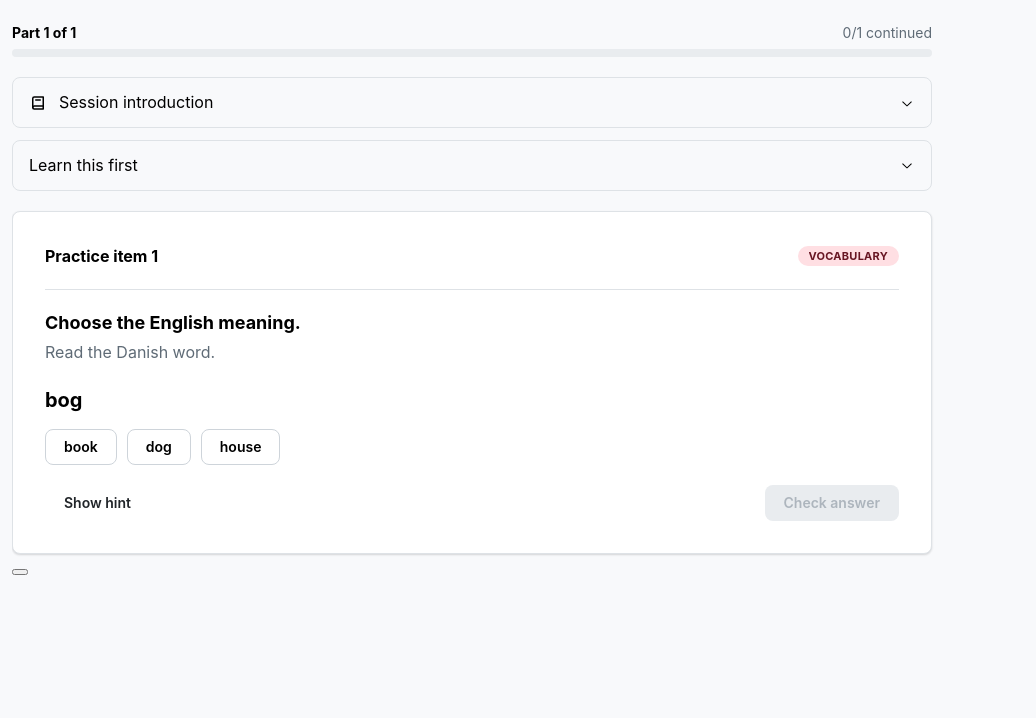
it: restores hint focus after manually retrying a committed support response loss
Click the button "Show hint": (98, 503) [45, 485, 150, 521]
(page scrolled)
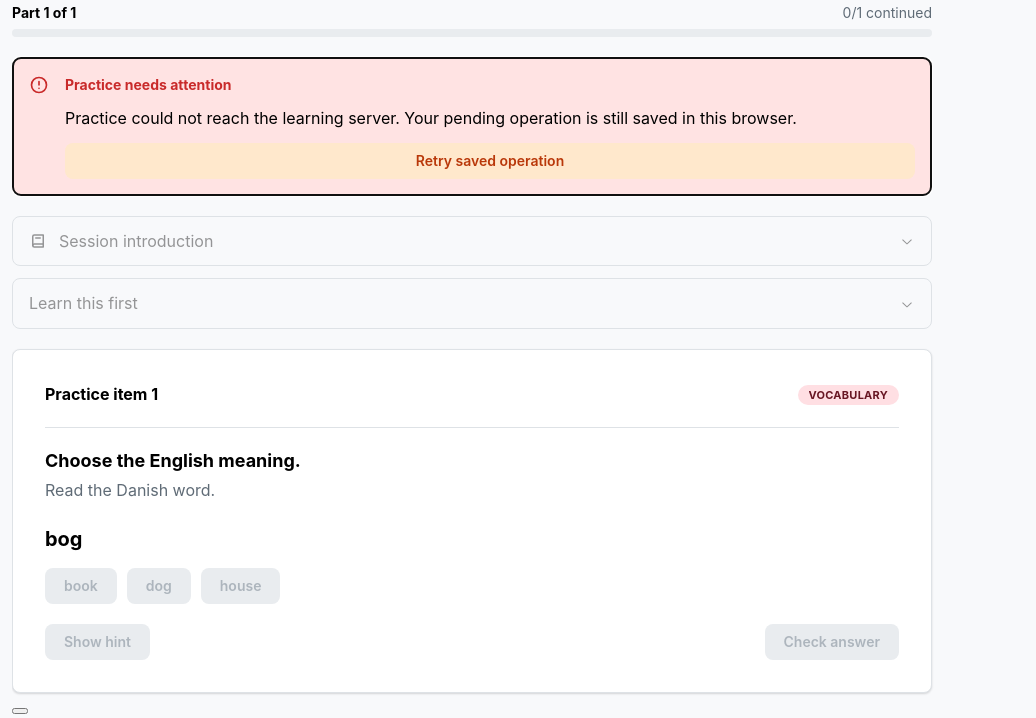
Click the button "Retry saved operation": (490, 161) [65, 143, 915, 179]
(page scrolled)
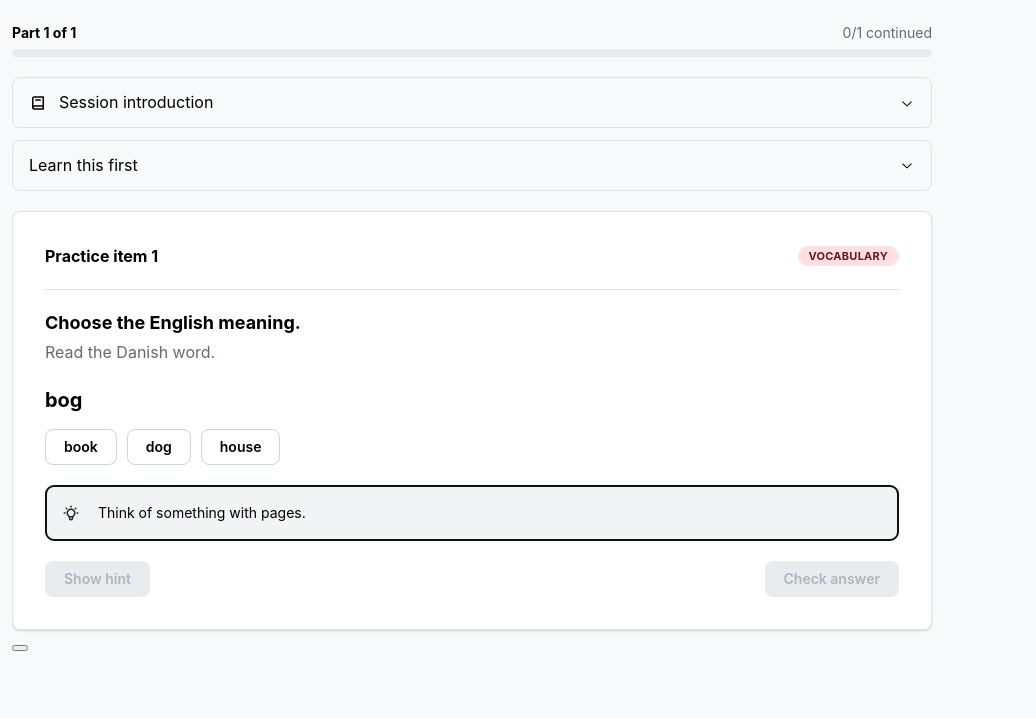
Expected: the message "Think of something with pages." is shown, [45, 485, 899, 541]
